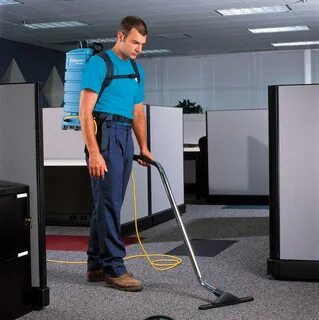awake: (78, 15, 154, 292)
